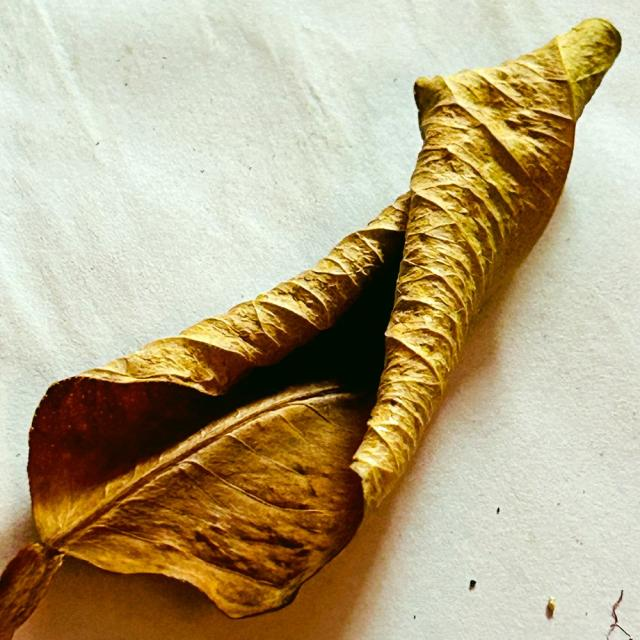DryLeaf_Lemon: (0, 19, 621, 639)
